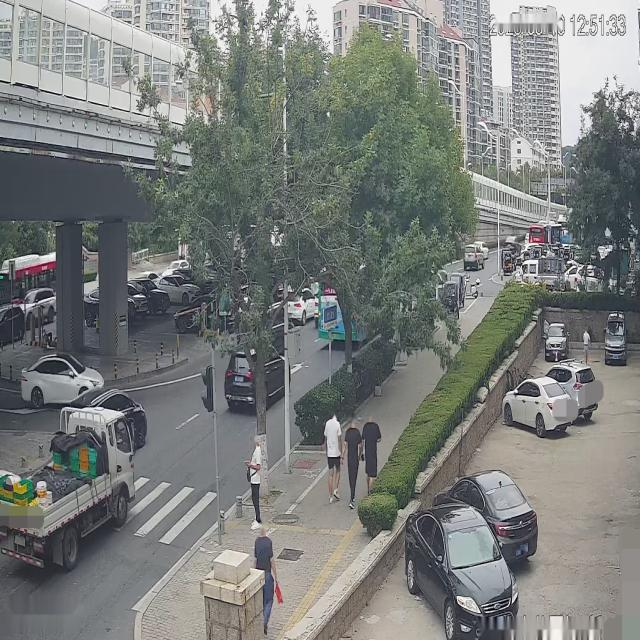car: (0, 400, 137, 573)
